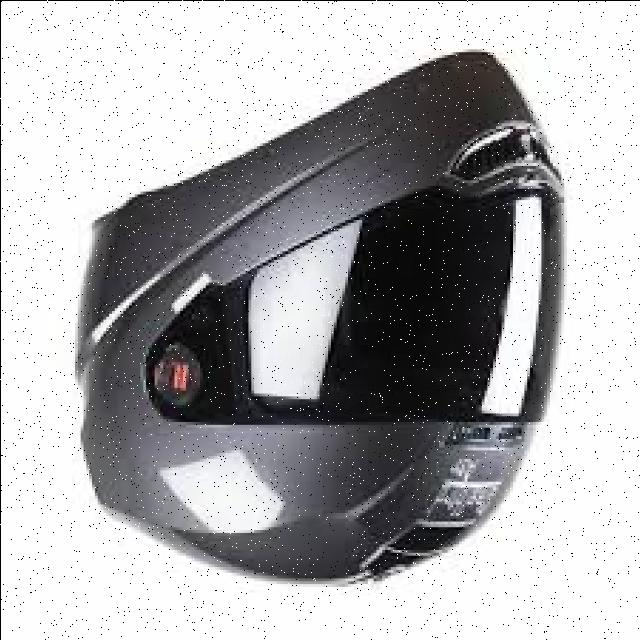Helmet: (76, 53, 561, 582)
